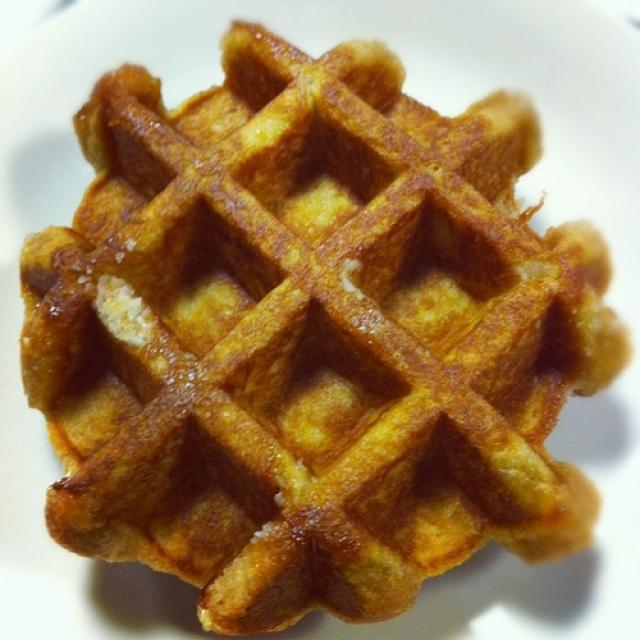炸货点心: (22, 32, 616, 616)
蛋糕甜品: (22, 32, 616, 616)
